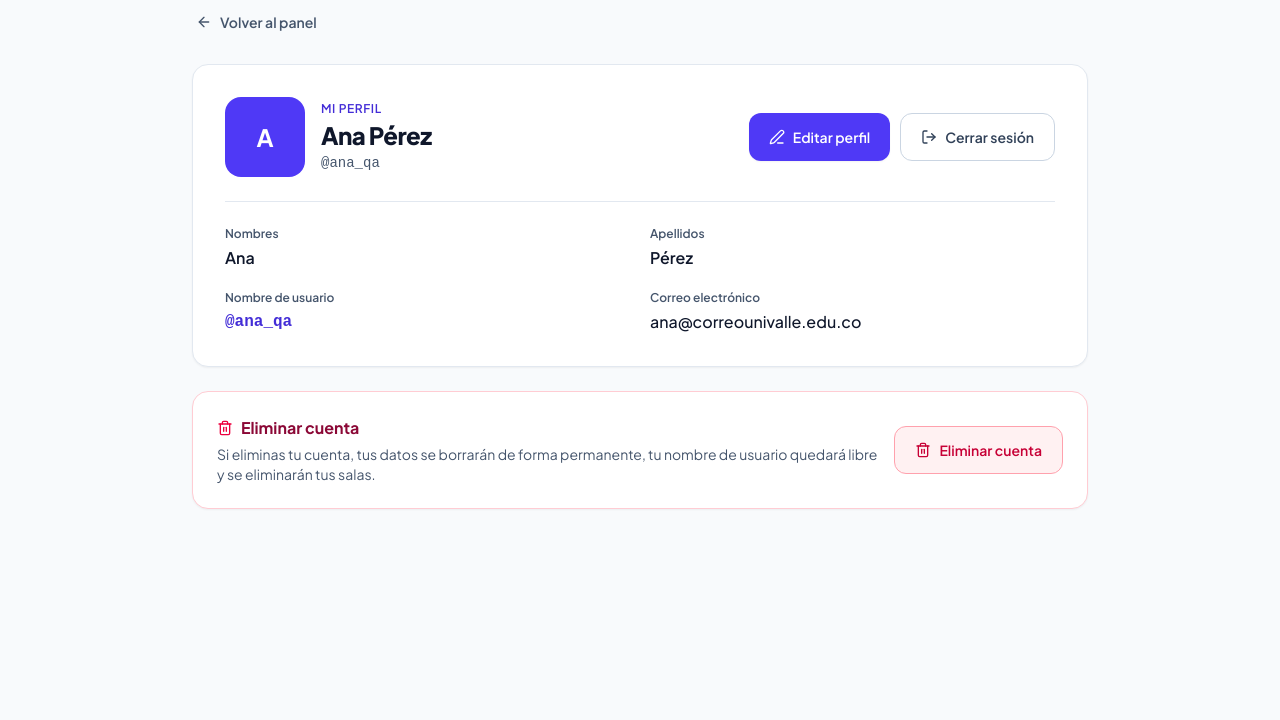
Scenario: US-05 | E2 | cancelar la eliminación › con el botón «Cancelar» cierra, devuelve el foco y no elimina nada
Click the button "Eliminar cuenta".
click(979, 450)  # box [894,426,1063,474]
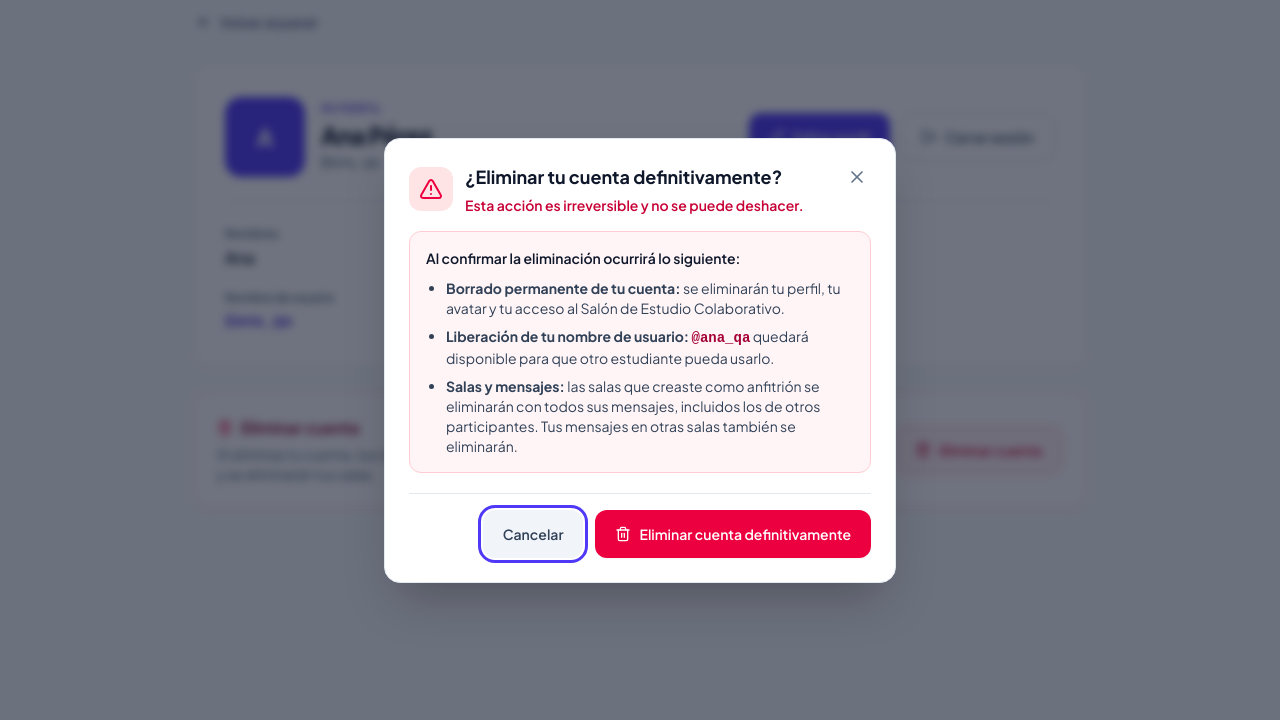
Click the button "Cancelar".
click(533, 534)  # box [483,510,584,558]
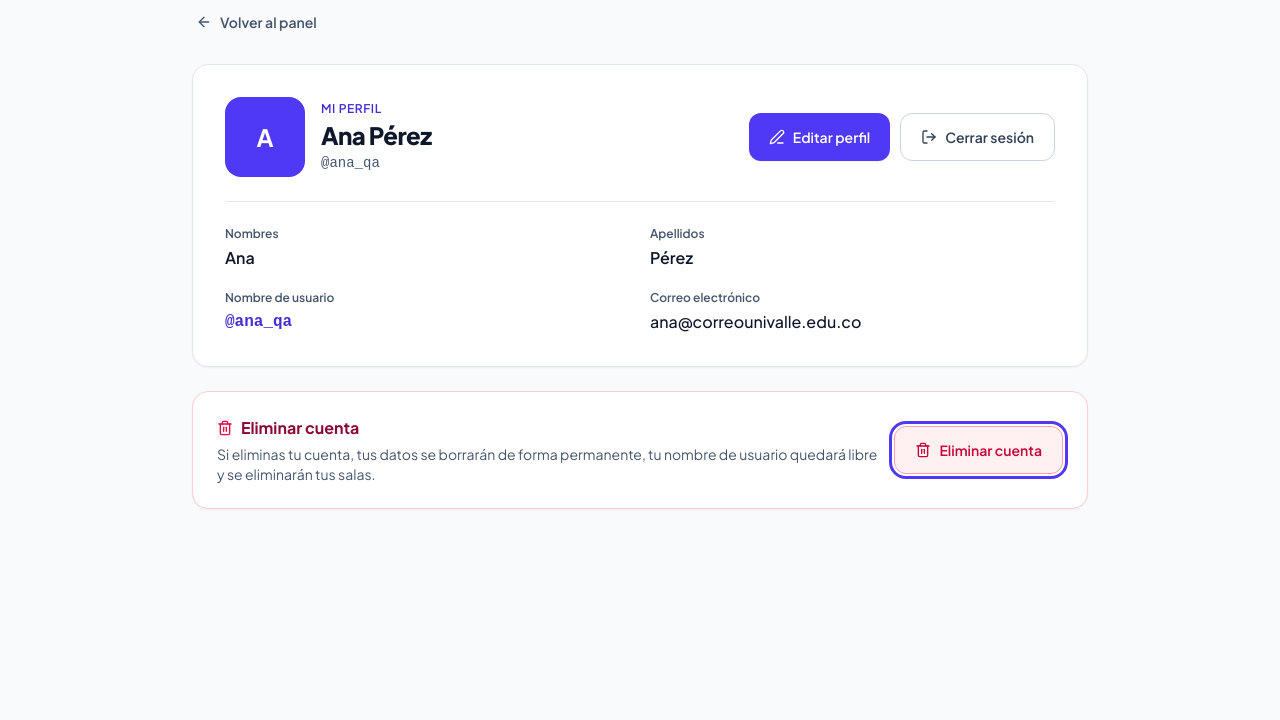
Expected: the dialog is gone
